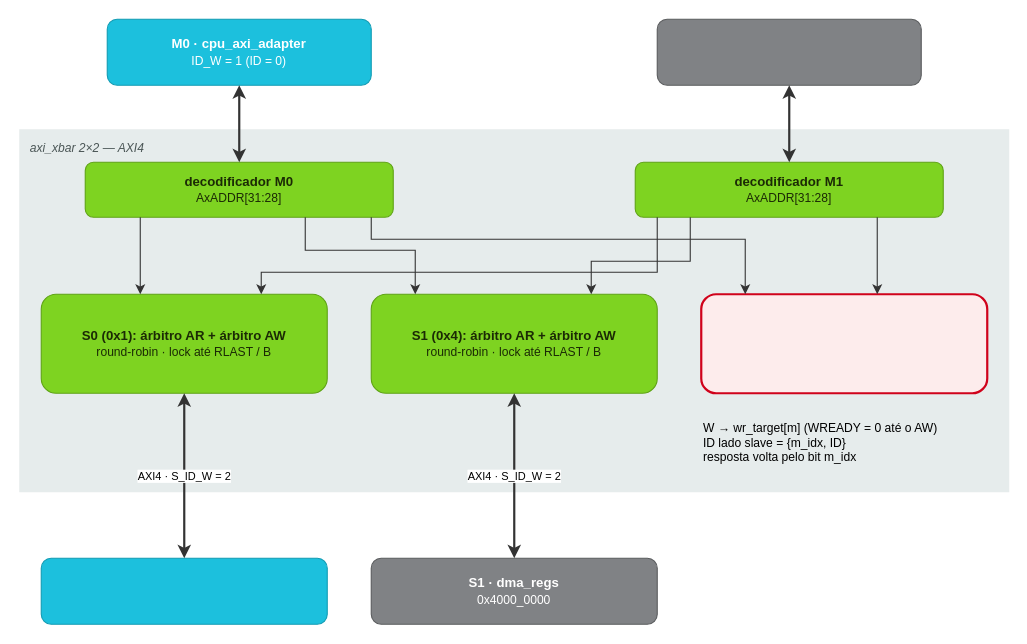
This 1027x644 diagram has some shape labels left out. The box of each missing label's shape, as (x1, y1, x2, y2) in pixels:
M1 · DMA ID_W = 1 (ID = 0): (656, 18, 921, 85)
S0 · axi_mem_ctrl DMEM 0x1000_0000: (40, 557, 327, 624)
slave padrão DECERR · ARLEN+1 beats consome W até WLAST: (700, 293, 988, 394)
